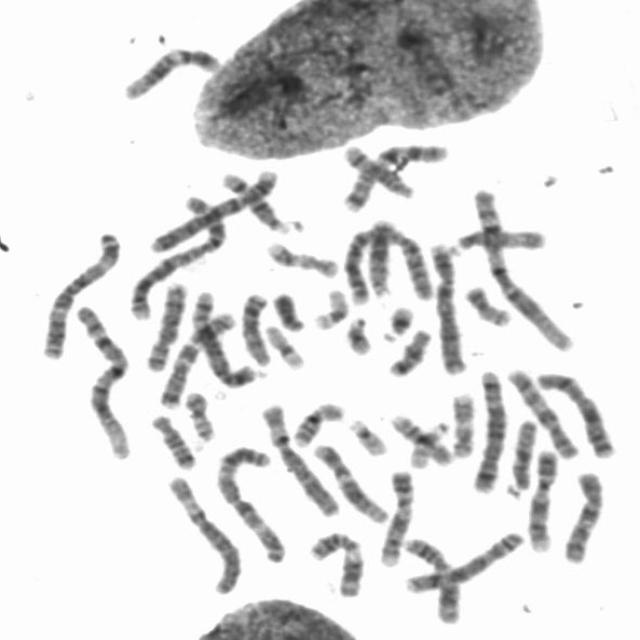A1: (470, 182, 580, 354), (69, 300, 135, 462)
A2: (123, 188, 232, 322), (334, 218, 434, 308)
A3: (34, 226, 124, 360), (210, 440, 288, 564)
B4: (142, 163, 282, 255), (424, 238, 471, 377)
B5: (188, 284, 262, 389), (468, 365, 510, 494)
C10: (500, 363, 580, 461), (557, 465, 608, 566)
C11: (399, 532, 464, 625), (304, 526, 367, 598)
C12: (306, 438, 389, 525), (118, 41, 225, 101)
C6: (256, 398, 343, 518), (163, 470, 245, 596)
C7: (154, 306, 241, 409), (340, 138, 453, 213)
C8: (400, 526, 526, 595), (139, 277, 189, 372)
C9: (372, 463, 417, 569), (522, 446, 562, 554)
D13: (235, 287, 273, 367), (364, 215, 396, 299)
D14: (216, 167, 298, 236), (337, 139, 418, 200)
D15: (503, 414, 541, 498), (448, 223, 547, 253)
E16: (387, 409, 458, 468), (287, 397, 349, 448)
E17: (260, 236, 342, 280), (447, 388, 478, 458)
E18: (146, 409, 200, 472), (383, 323, 434, 378)
F19: (260, 320, 309, 371), (309, 284, 352, 332)
F20: (459, 280, 514, 328), (179, 386, 218, 442)
G21: (378, 300, 417, 344), (341, 311, 375, 357)
G22: (406, 417, 454, 469), (343, 414, 391, 458)
X: (532, 366, 621, 460)
Y: (268, 286, 308, 332)
